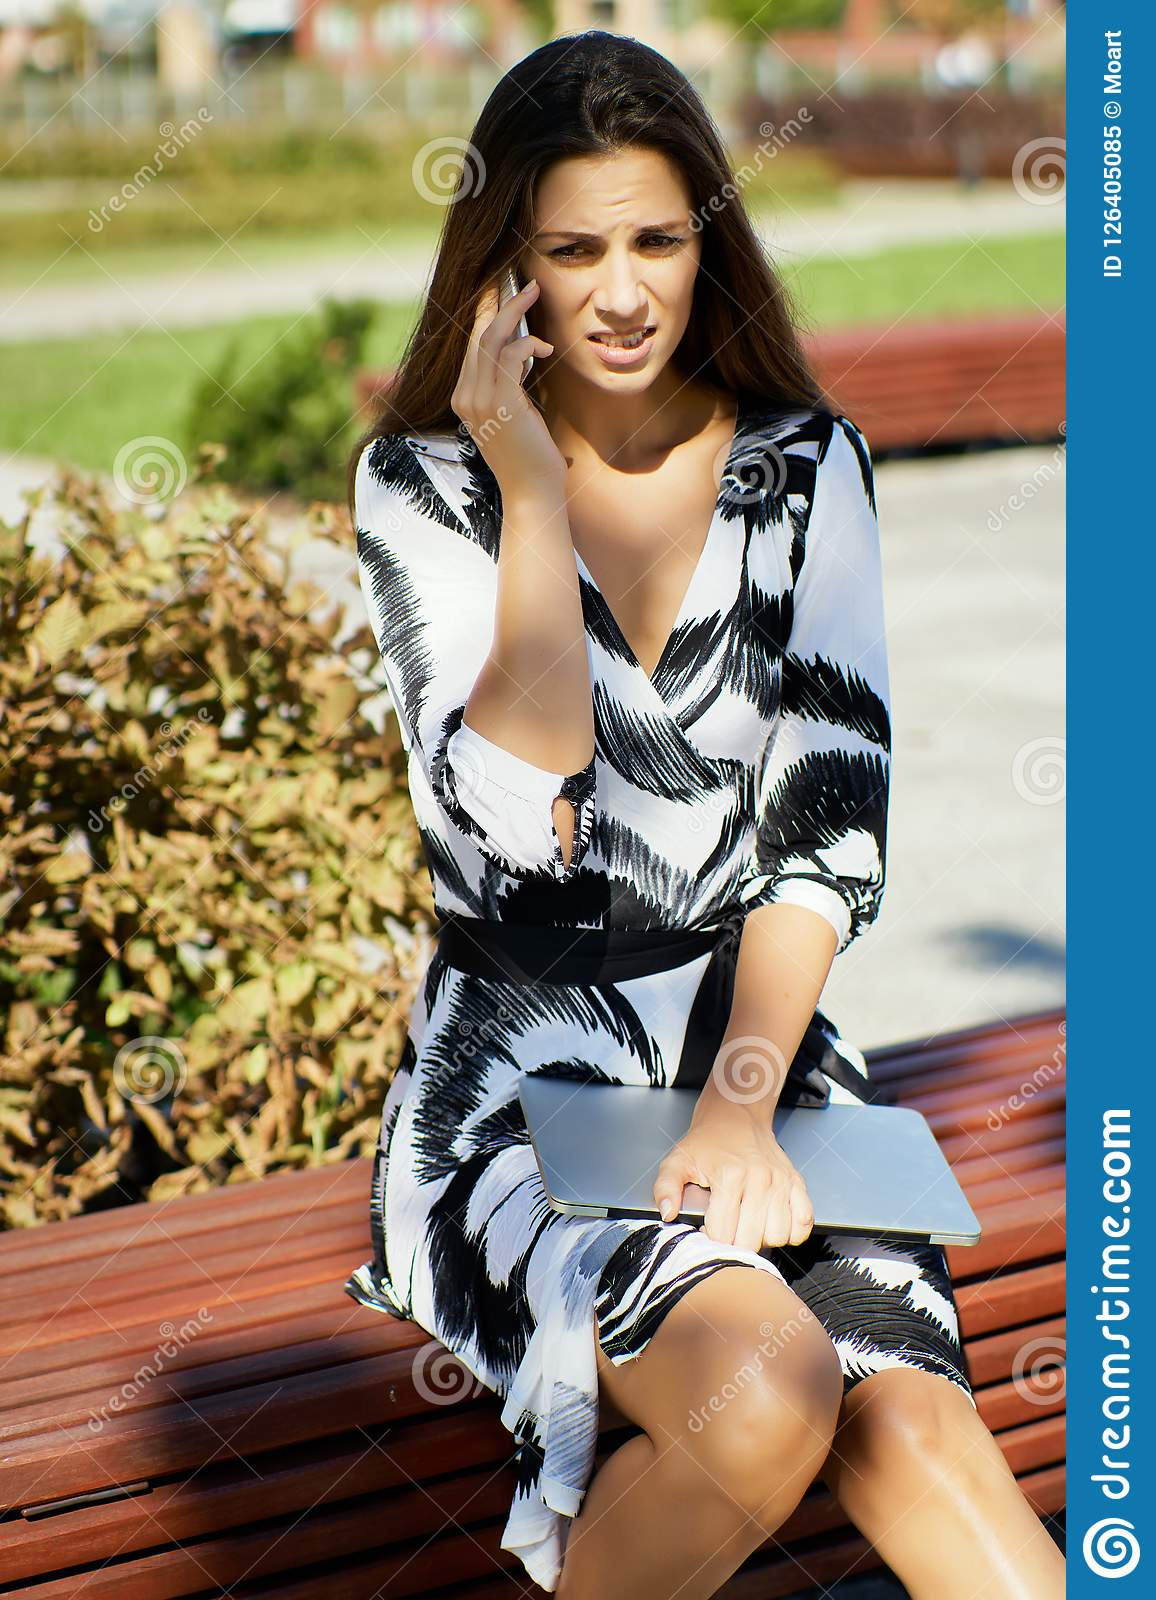phone: (477, 241, 550, 393)
talk: (445, 199, 702, 516)
